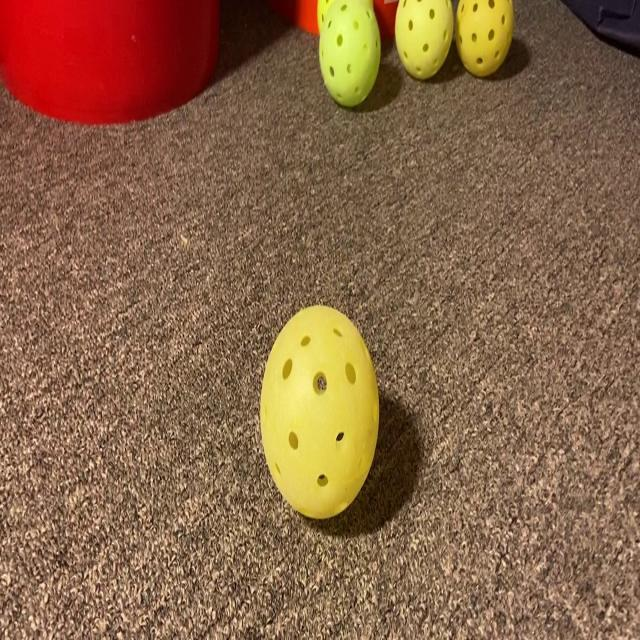ball: (247, 296, 391, 516), (322, 0, 388, 105), (461, 0, 520, 77), (400, 0, 455, 76)
